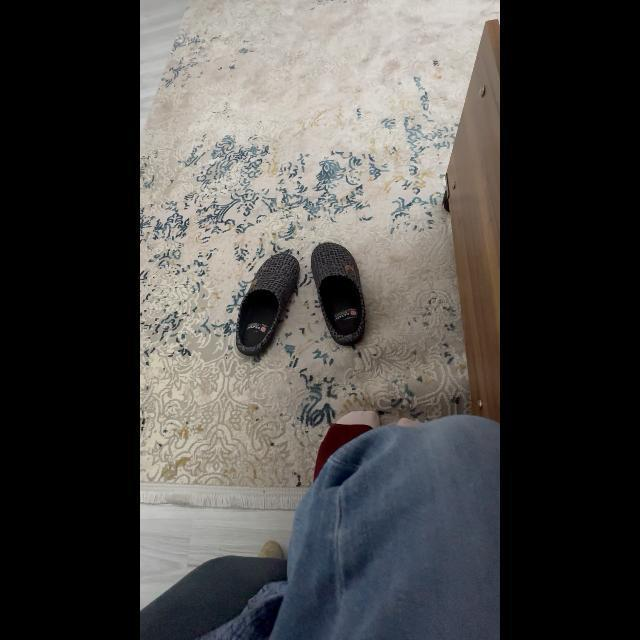slipper: (226, 244, 310, 366), (309, 235, 369, 355)
